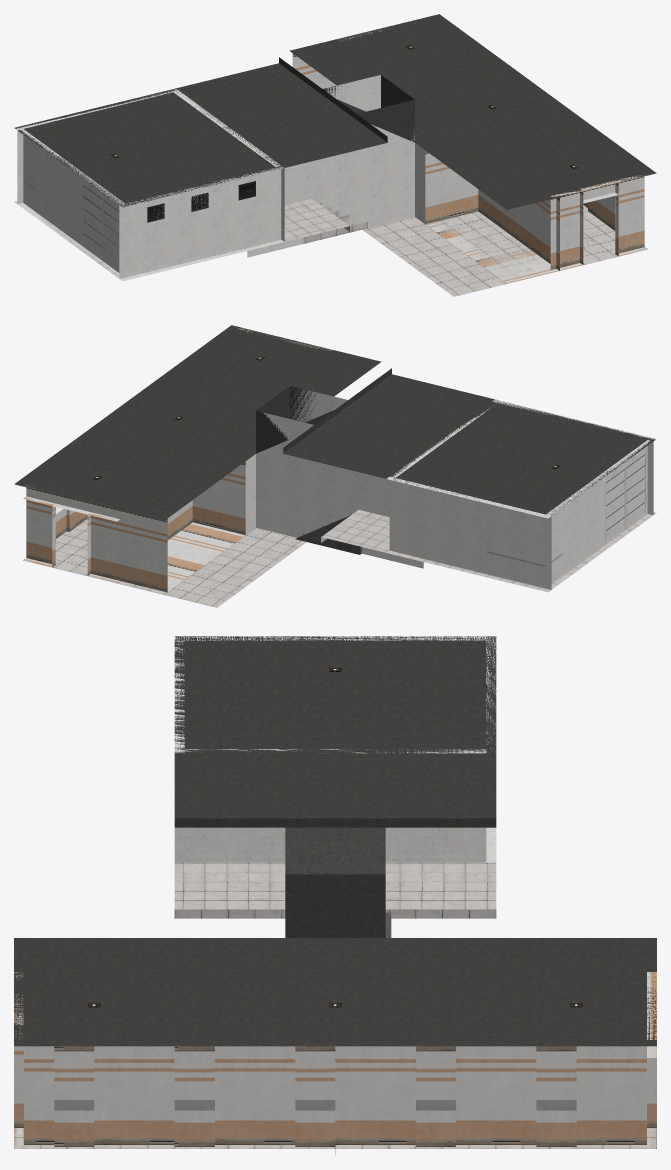
File: RZ_room2_mainoffice.glb
3 views of the same model, one above another, from view 1: azimuth 30°, elevation 25°; view 2: azimuth 150°, elevation 25°; view 3: azimuth 270°, elevation 25° (orthographic). The views are drawn at different scales.
Parts seen in each view (by area): view 1: room2sroom; view 2: room2sroom; view 3: room2sroom.
Boxes of the visible parts, bbox=[...] form: room2sroom: bbox=[14, 14, 656, 296]; room2sroom: bbox=[14, 325, 656, 607]; room2sroom: bbox=[14, 636, 656, 1155].
Size of the model in its own units: 26.08 by 6.4 by 20.48.
Materials: 13 (13 with a texture image).
